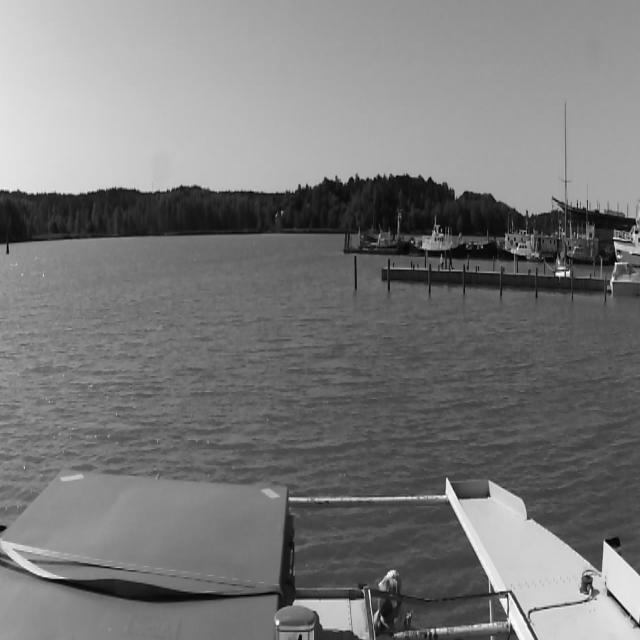ship: (556, 96, 576, 276), (412, 216, 466, 259), (357, 225, 409, 256), (499, 241, 545, 260)
